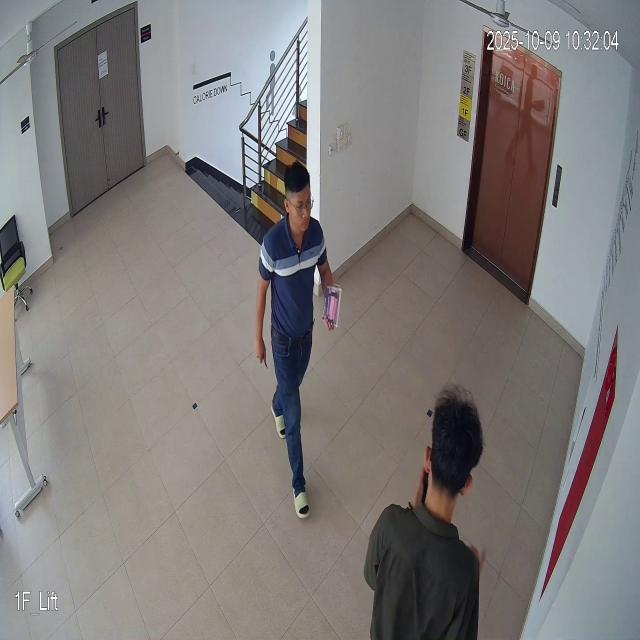face: (281, 160, 320, 240)
